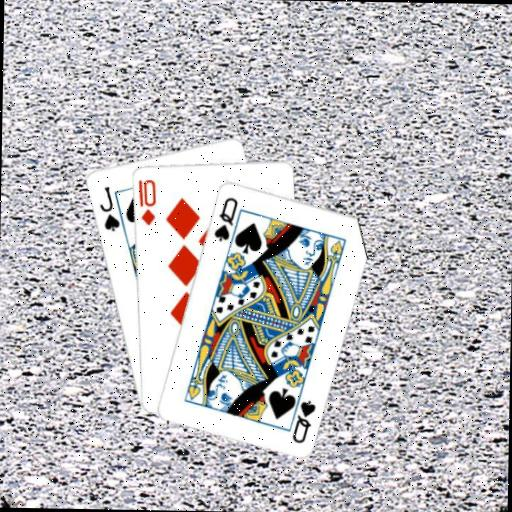10D: (134, 176, 158, 227)
JS: (96, 183, 122, 233)
QS: (210, 194, 239, 243), (289, 396, 318, 445)
